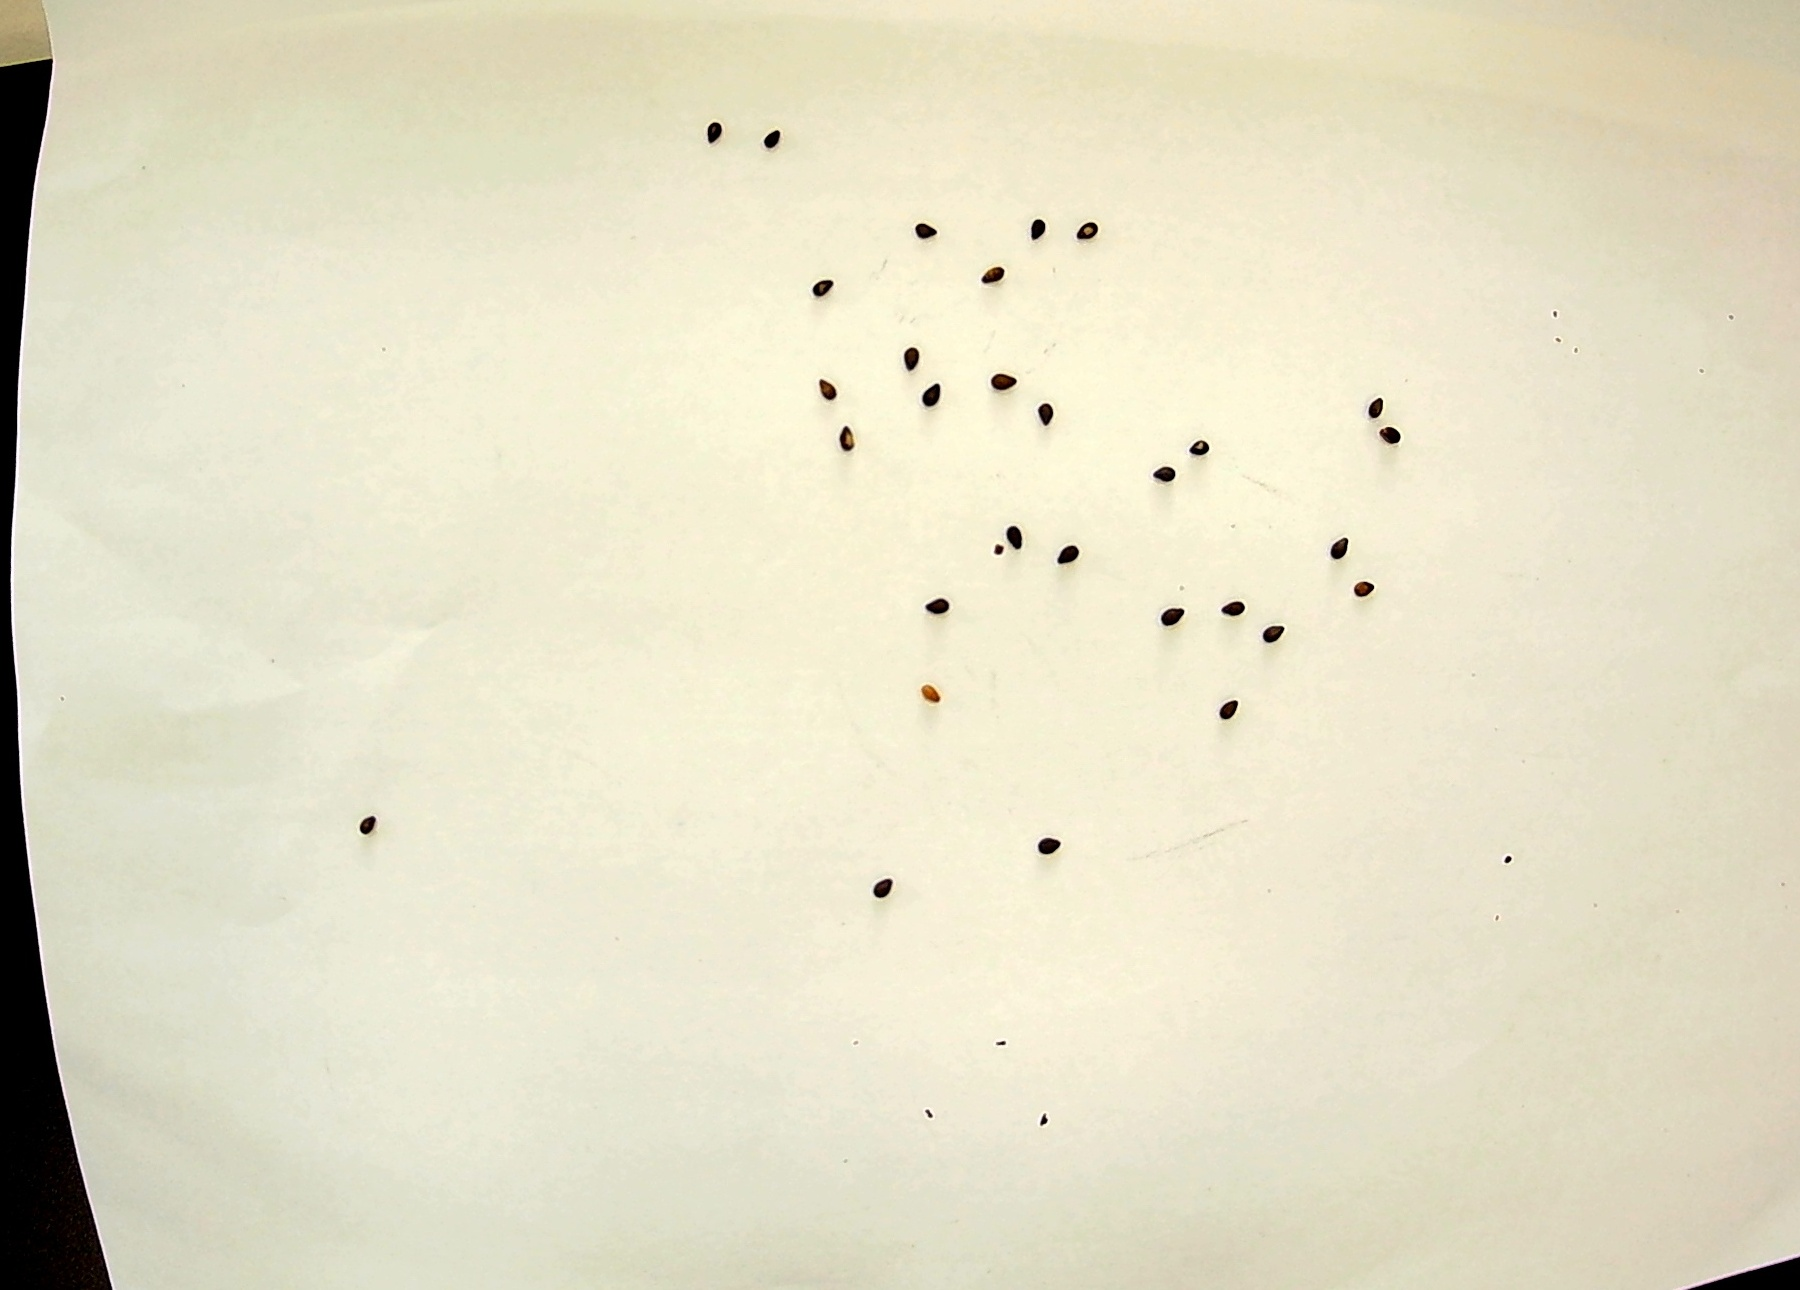sesami: (807, 269, 839, 307), (1153, 607, 1185, 645), (922, 581, 954, 618), (700, 114, 733, 151), (975, 251, 1007, 288), (1180, 431, 1213, 468), (753, 123, 784, 161), (1027, 209, 1058, 247), (1079, 209, 1109, 247), (885, 338, 915, 376), (918, 371, 949, 409), (991, 357, 1021, 395), (1384, 417, 1415, 455), (1324, 535, 1355, 572), (1213, 592, 1243, 630), (1146, 445, 1176, 483), (993, 511, 1024, 549), (918, 673, 949, 711), (1040, 831, 1070, 868), (830, 422, 861, 459), (903, 216, 933, 253), (808, 374, 839, 410), (1038, 396, 1069, 433), (1360, 392, 1391, 429), (1351, 570, 1381, 606), (1254, 618, 1285, 655), (1213, 679, 1243, 715), (1049, 542, 1080, 578), (858, 873, 889, 909), (350, 808, 381, 845)
